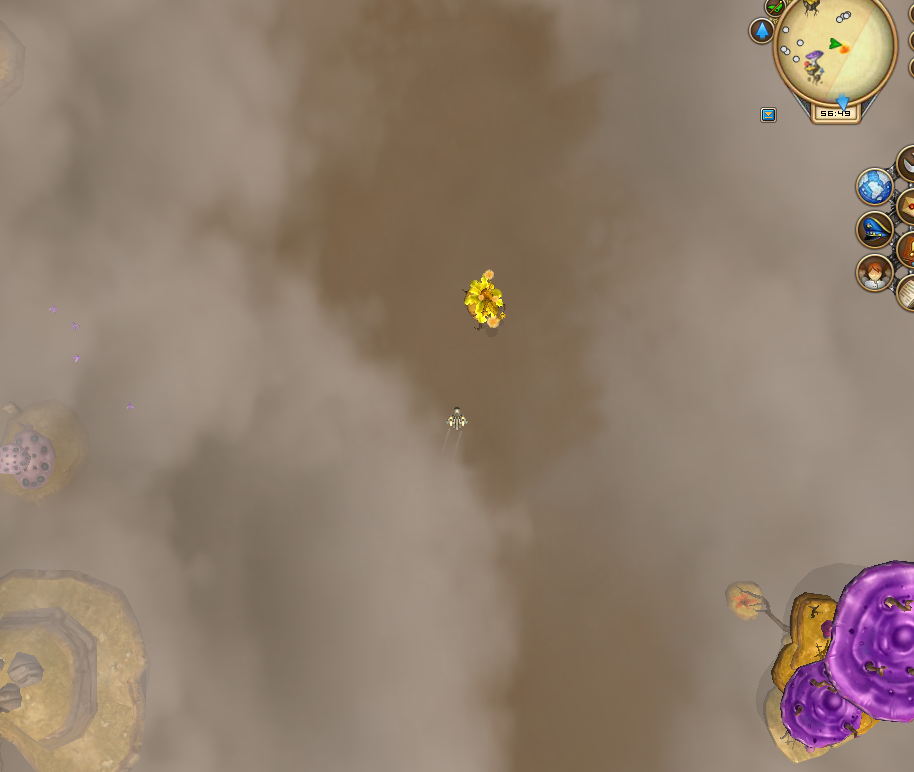dandelion-full: (458, 261, 514, 345)
